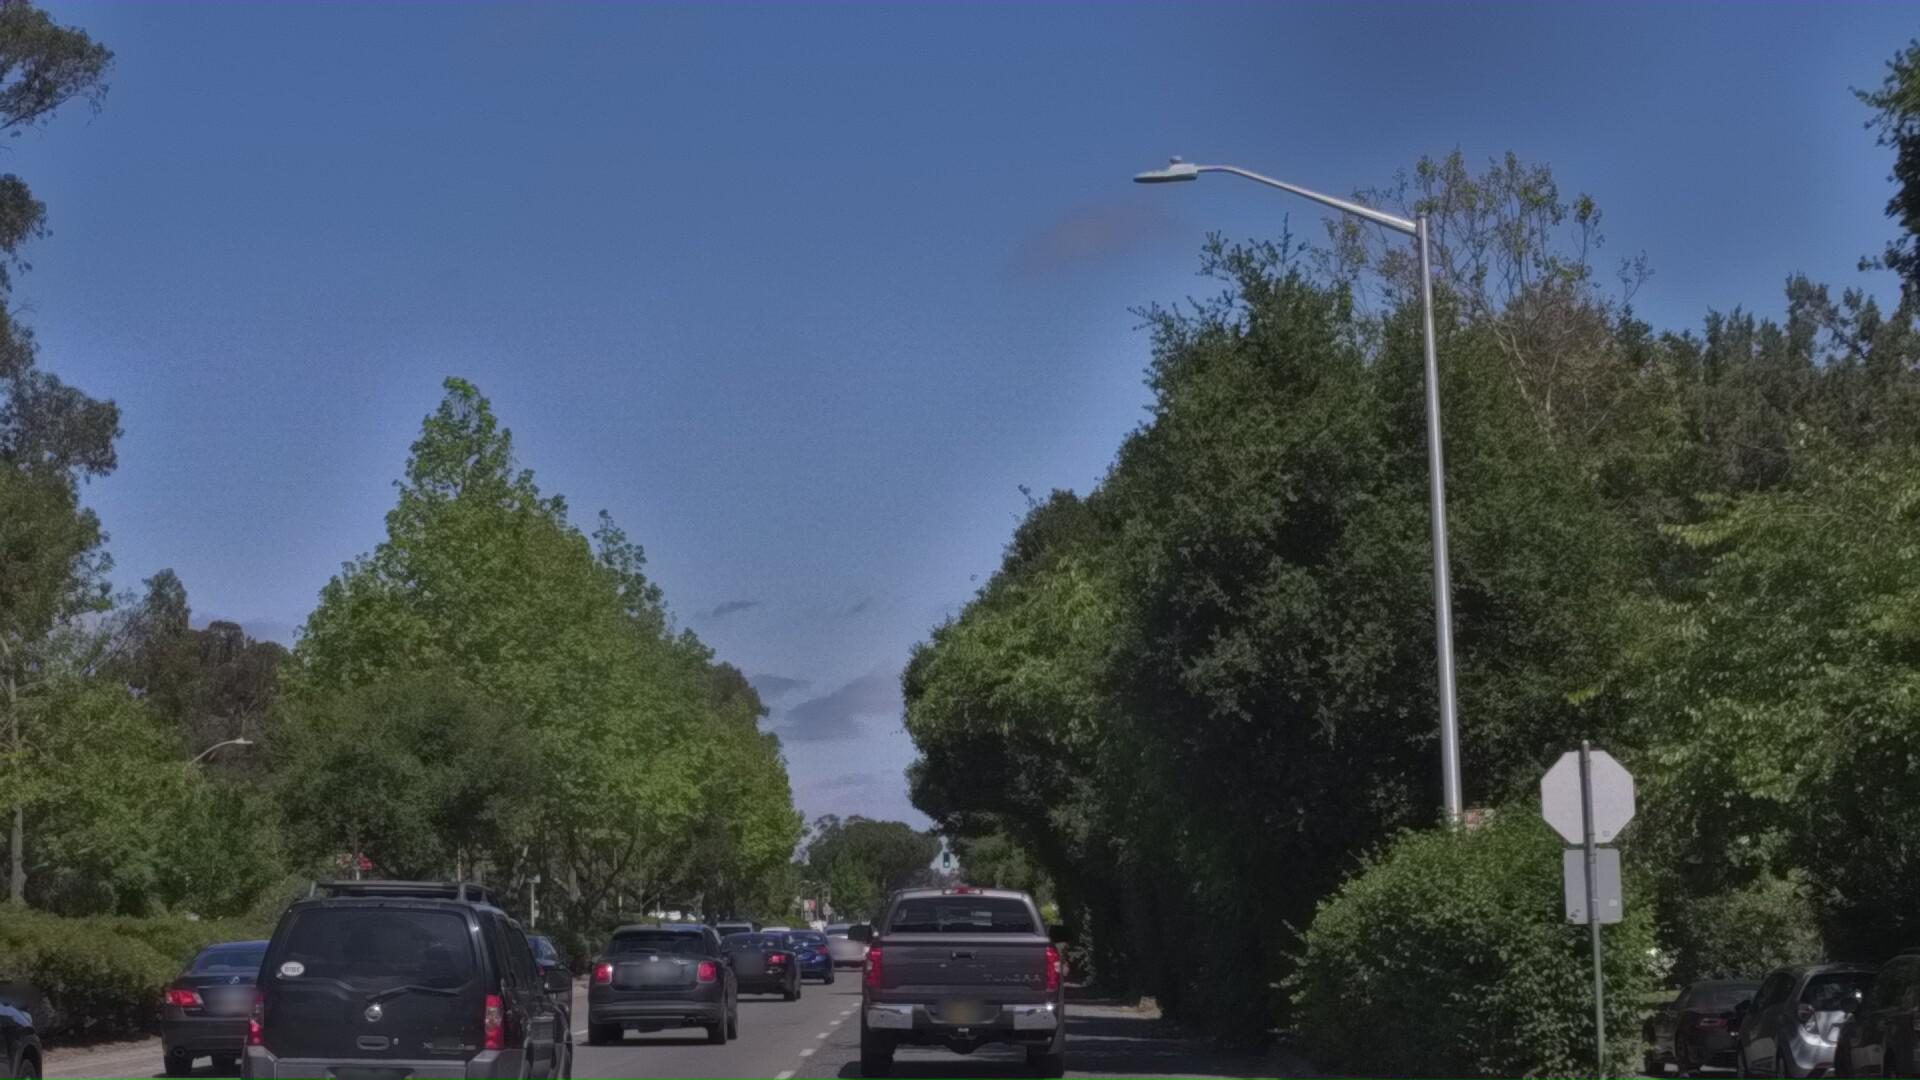car: (229, 898, 595, 1080), (851, 895, 1084, 1080), (145, 972, 380, 1080), (582, 953, 748, 1080), (1636, 996, 1878, 1080), (1720, 986, 1920, 1080), (468, 980, 609, 1080), (1817, 957, 1920, 1080), (0, 956, 79, 1080), (717, 978, 822, 1064)
